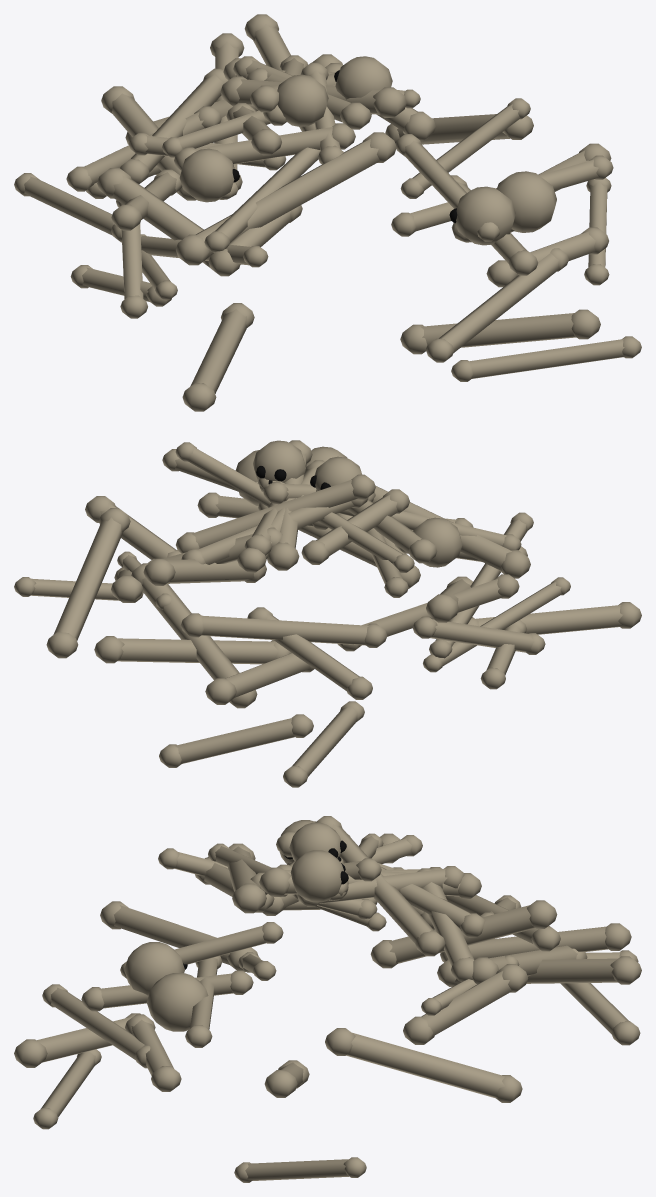
Rendered from SM_Bone_Pile.fbx.
3 renders of one model, top to bottom at view 1: azimuth 30°, elevation 25°; view 2: azimuth 150°, elevation 25°; view 3: azimuth 270°, elevation 25°, orthographic. The views are drawn at different scales.
Visible parts, largest first — view 1: SM_Bone_Pile; view 2: SM_Bone_Pile; view 3: SM_Bone_Pile.
Part boxes in pixels (<box>): SM_Bone_Pile: <box>14,14,641,411</box>; SM_Bone_Pile: <box>14,440,641,787</box>; SM_Bone_Pile: <box>14,816,641,1182</box>.
Size of what is drawn, in the model's own units: 2.26 by 0.9741 by 2.34.
